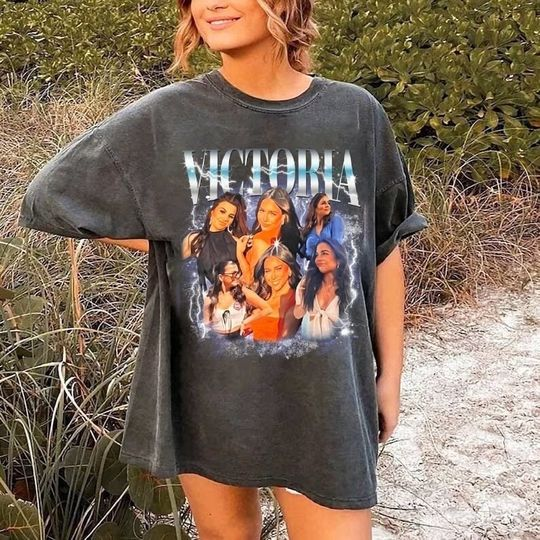design: (178, 145, 363, 361)
